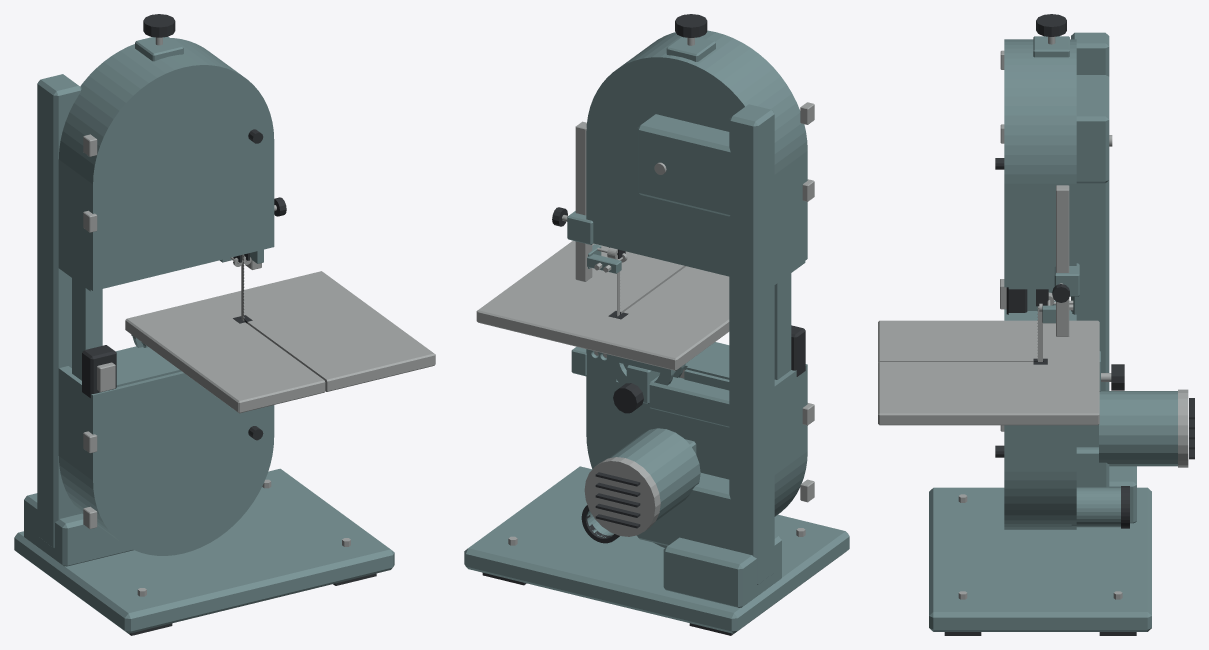
The picture shows the model from 3 angles, left to right: view 1: azimuth 30°, elevation 25°; view 2: azimuth 150°, elevation 25°; view 3: azimuth 270°, elevation 25°; orthographic projection. The views are drawn at different scales.
Parts seen in each view (by area): view 1: Upper closed front door, Lower closed front door, Chamfered cast base, Working table with real slit and insert pocket, C frame upright, Upper curved outer shell, Upper shell side -0.194, Lower frame foot, Lower shell side -0.194, Lower slotted exit web 1, Return guard left wall, Lower curved outer shell (+3 smaller); view 2: Chamfered cast base, Upper fixed rear cover, C frame upright, Working table with real slit and insert pocket, C frame upper bridge, Lower fixed rear cover, Upper curved outer shell, Lower frame foot, C frame lower bridge, Rear direct motor housing, Rear motor end cap, Upper shell side -0.194 (+13 smaller); view 3: Chamfered cast base, Working table with real slit and insert pocket, Upper curved outer shell, C frame upright, Rear direct motor housing, Upper shell side 0.07400000000000001, Lower curved outer shell, C frame upper bridge, Lower shell side 0.07400000000000001, Hollow dust collection port, Upper guide sliding post, Upper closed front door (+11 smaller).
Boxes of the visible parts, <box> form: Upper closed front door: <box>90,63,274,291</box>; Lower closed front door: <box>90,371,274,555</box>; Chamfered cast base: <box>14,468,394,633</box>; Working table with real slit and insert pocket: <box>125,271,435,413</box>; C frame upright: <box>37,74,81,548</box>; Upper curved outer shell: <box>59,39,240,182</box>; Upper shell side -0.194: <box>58,159,90,288</box>; Lower frame foot: <box>24,493,133,566</box>; Lower shell side -0.194: <box>58,370,90,478</box>; Lower slotted exit web 1: <box>116,347,181,387</box>; Return guard left wall: <box>72,278,89,380</box>; Lower curved outer shell: <box>59,456,115,538</box>; Chamfered cast base: <box>464,466,849,633</box>; Upper fixed rear cover: <box>586,55,746,276</box>; C frame upright: <box>729,104,774,584</box>; Working table with real slit and insert pocket: <box>476,240,729,370</box>; C frame upper bridge: <box>637,114,748,219</box>; Lower fixed rear cover: <box>586,349,729,547</box>; Upper curved outer shell: <box>622,32,805,174</box>; Lower frame foot: <box>663,535,781,607</box>; C frame lower bridge: <box>637,473,749,553</box>; Rear direct motor housing: <box>609,428,700,520</box>; Rear motor end cap: <box>584,457,660,536</box>; Upper shell side -0.194: <box>774,153,805,282</box>; Chamfered cast base: <box>929,487,1151,631</box>; Working table with real slit and insert pocket: <box>878,320,1099,425</box>; Upper curved outer shell: <box>1008,39,1072,183</box>; C frame upright: <box>1071,32,1109,390</box>; Rear direct motor housing: <box>1099,391,1177,466</box>; Upper shell side 0.07400000000000001: <box>1008,183,1072,287</box>; Lower curved outer shell: <box>1008,471,1072,529</box>; C frame upper bridge: <box>1076,75,1109,183</box>; Lower shell side 0.07400000000000001: <box>1008,425,1072,471</box>; Hollow dust collection port: <box>1071,487,1120,527</box>; Upper guide sliding post: <box>1056,185,1069,336</box>; Upper closed front door: <box>1004,39,1008,287</box>.
Bounding box in the file's own units: 0.4305 × 0.8045 × 0.429.
